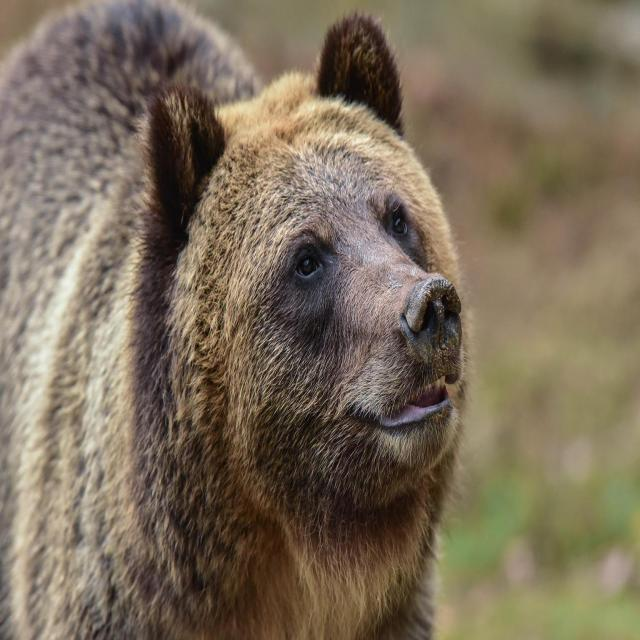Bear: (0, 0, 471, 640)
